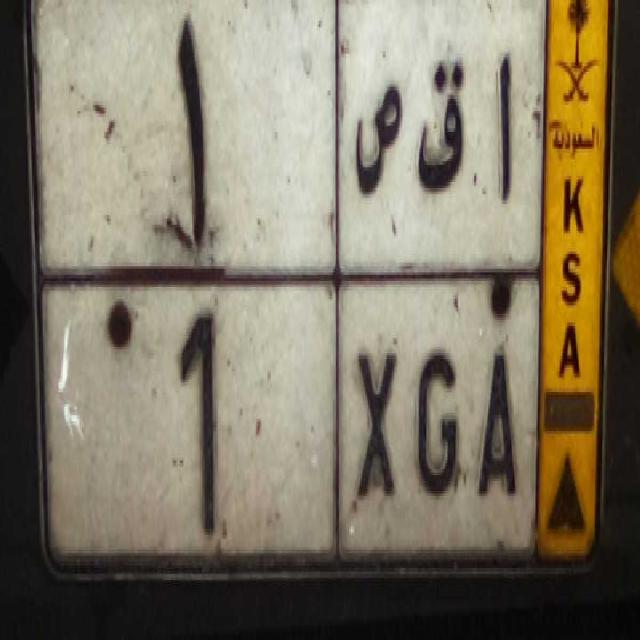license_plate: (35, 263, 537, 562)
